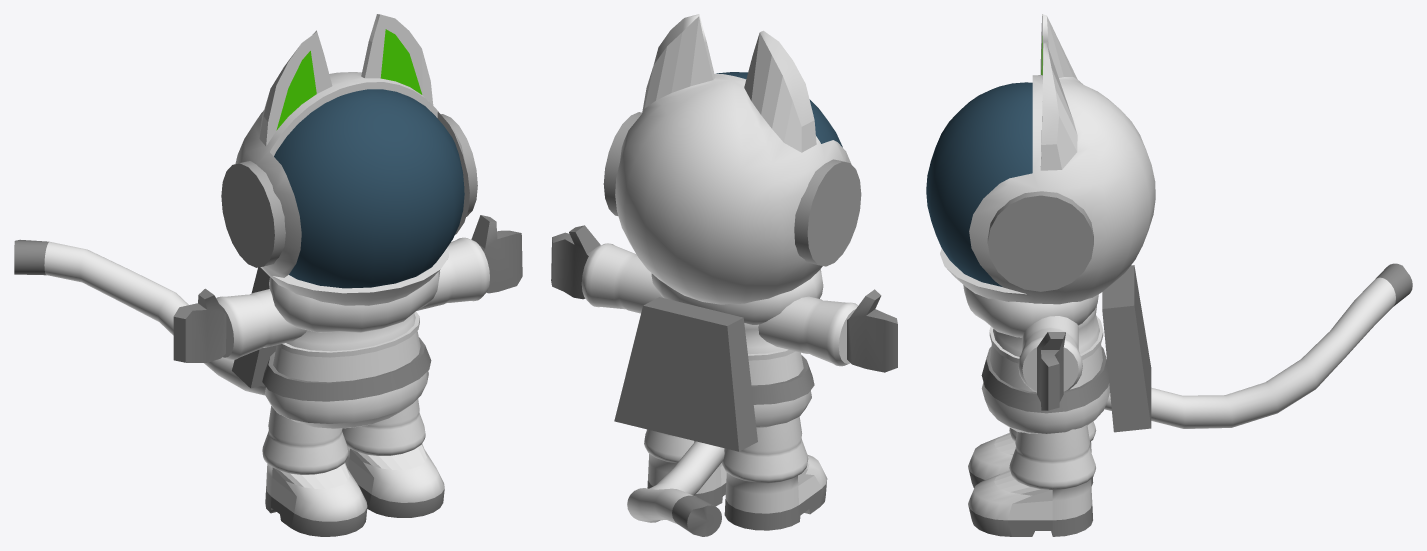
3 views of the same model, side by side, from view 1: azimuth 30°, elevation 25°; view 2: azimuth 150°, elevation 25°; view 3: azimuth 270°, elevation 25° (orthographic).
Visible parts, largest first — view 1: pCylinder8; view 2: pCylinder8; view 3: pCylinder8.
Part boxes in pixels (x1,y1,x2,y2): pCylinder8: [14, 14, 522, 536]; pCylinder8: [551, 14, 897, 536]; pCylinder8: [926, 14, 1412, 536].
Size of the model in its own units: 4.36 by 5.72 by 5.33.
